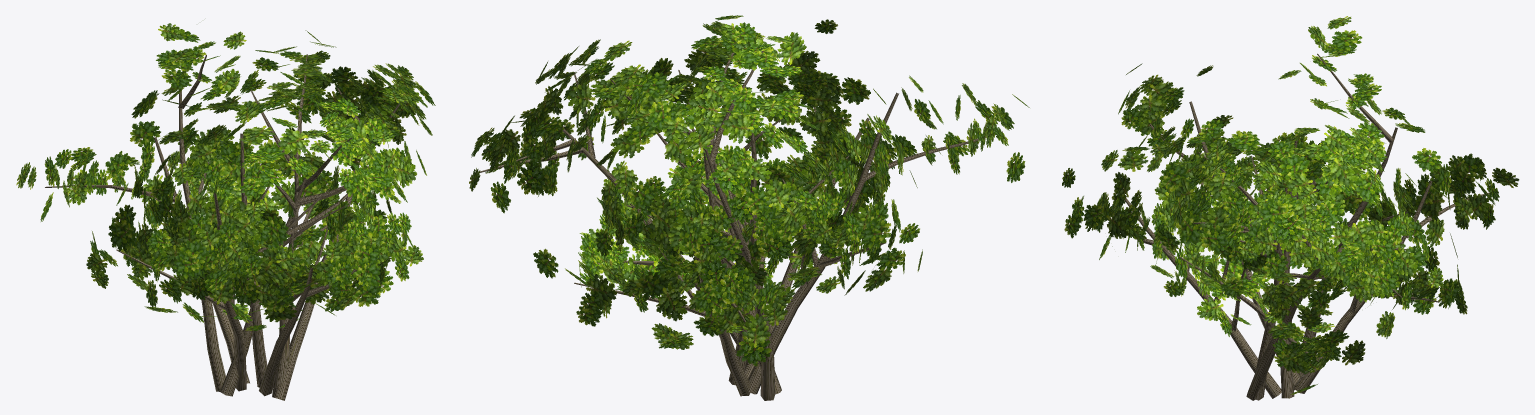
File: tree-bush-b.glb
The picture shows the model from 3 angles, left to right: view 1: azimuth 30°, elevation 25°; view 2: azimuth 150°, elevation 25°; view 3: azimuth 270°, elevation 25°; orthographic projection. The views are drawn at different scales.
Parts seen in each view (by area): view 1: leaves, bark; view 2: leaves, bark; view 3: leaves, bark.
Part boxes in pixels (bbox=[...]): leaves: bbox=[16, 23, 435, 330]; bark: bbox=[45, 54, 399, 400]; leaves: bbox=[469, 15, 1029, 366]; bark: bbox=[477, 50, 1002, 400]; leaves: bbox=[1062, 16, 1519, 394]; bark: bbox=[1108, 53, 1489, 400].
Size of the model in its own units: 3.22 by 2.82 by 3.33.
Materials: 2 (2 with a texture image).
